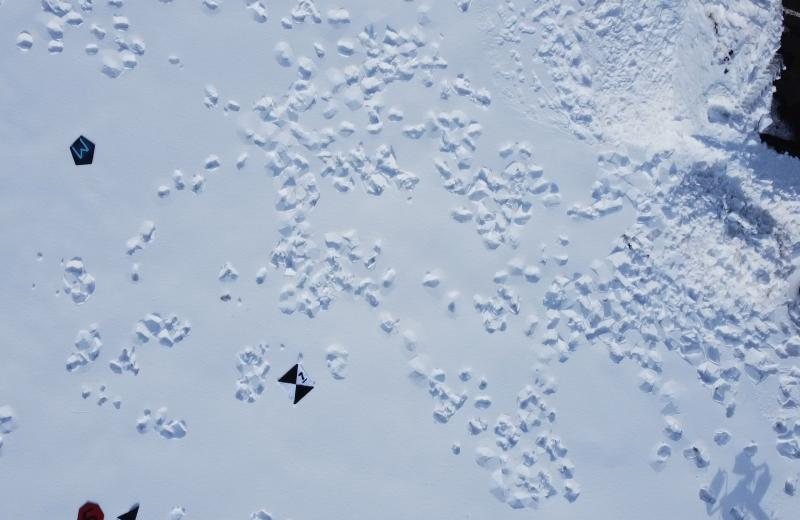Octagon: (72, 498, 108, 520)
Pentagon: (66, 131, 100, 170)
